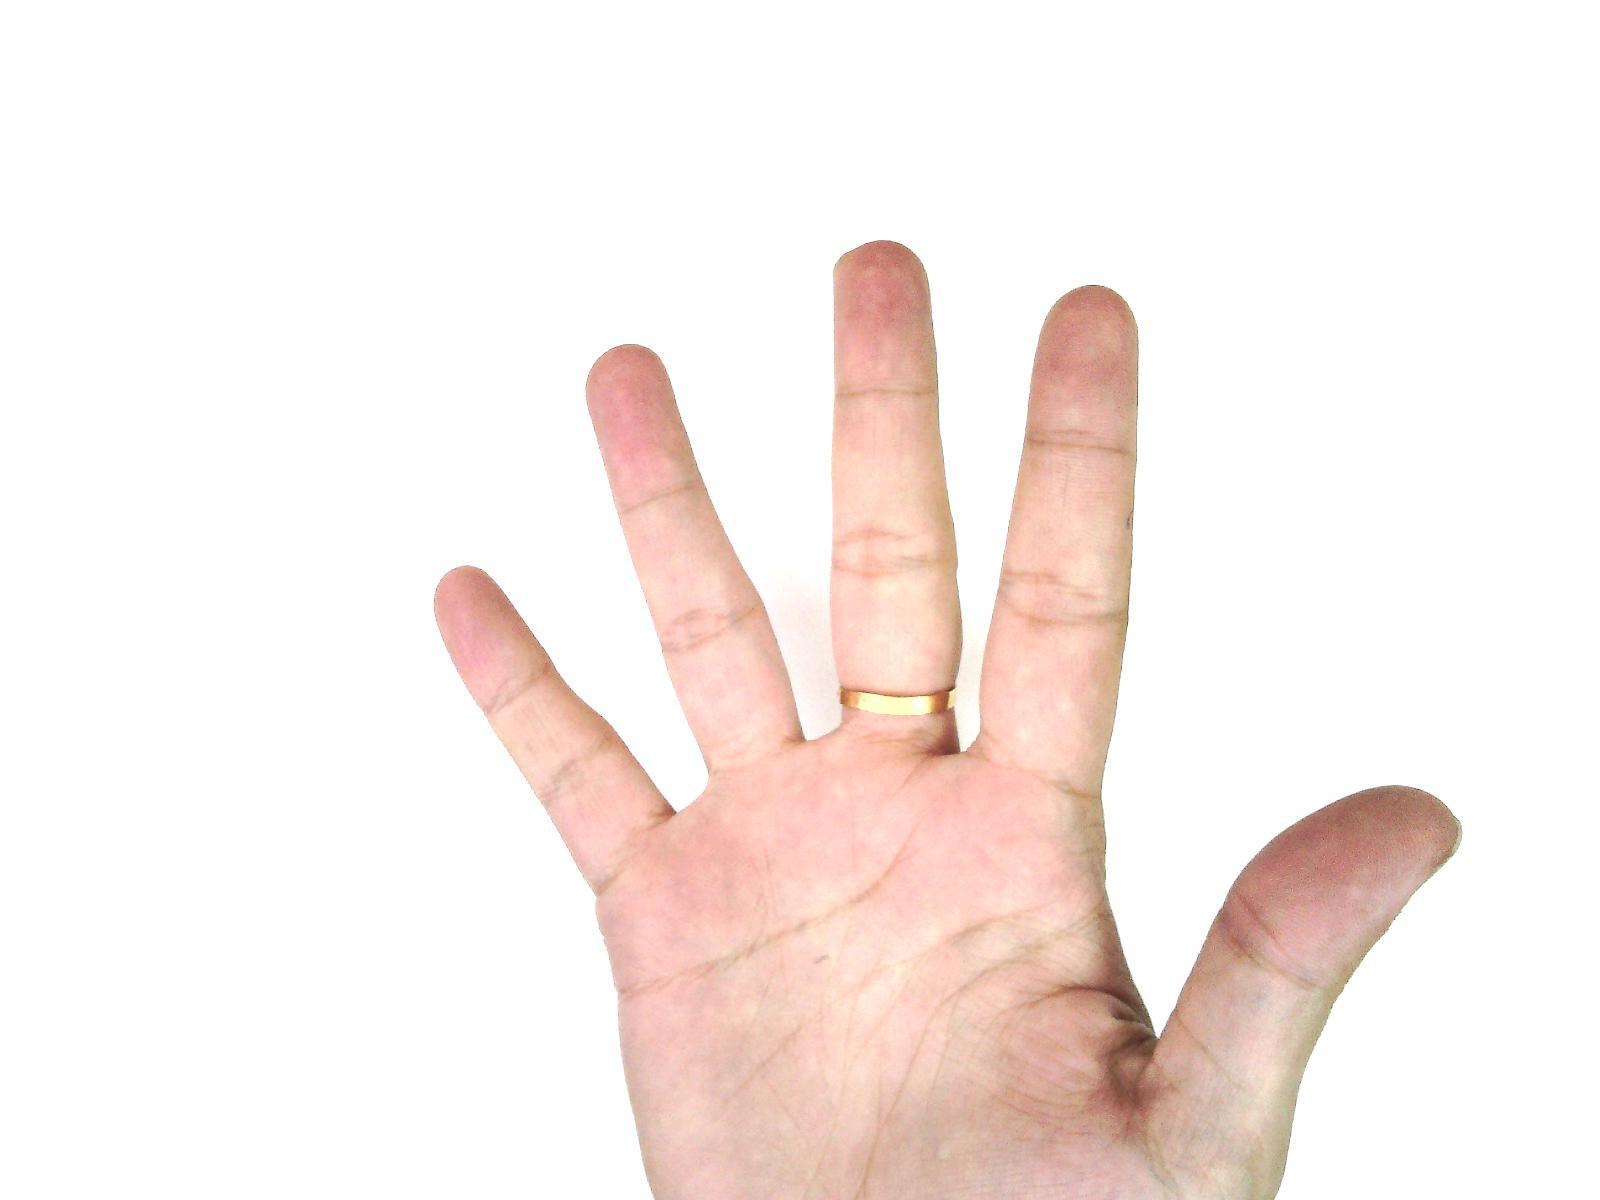hand: (416, 237, 1475, 1200)
